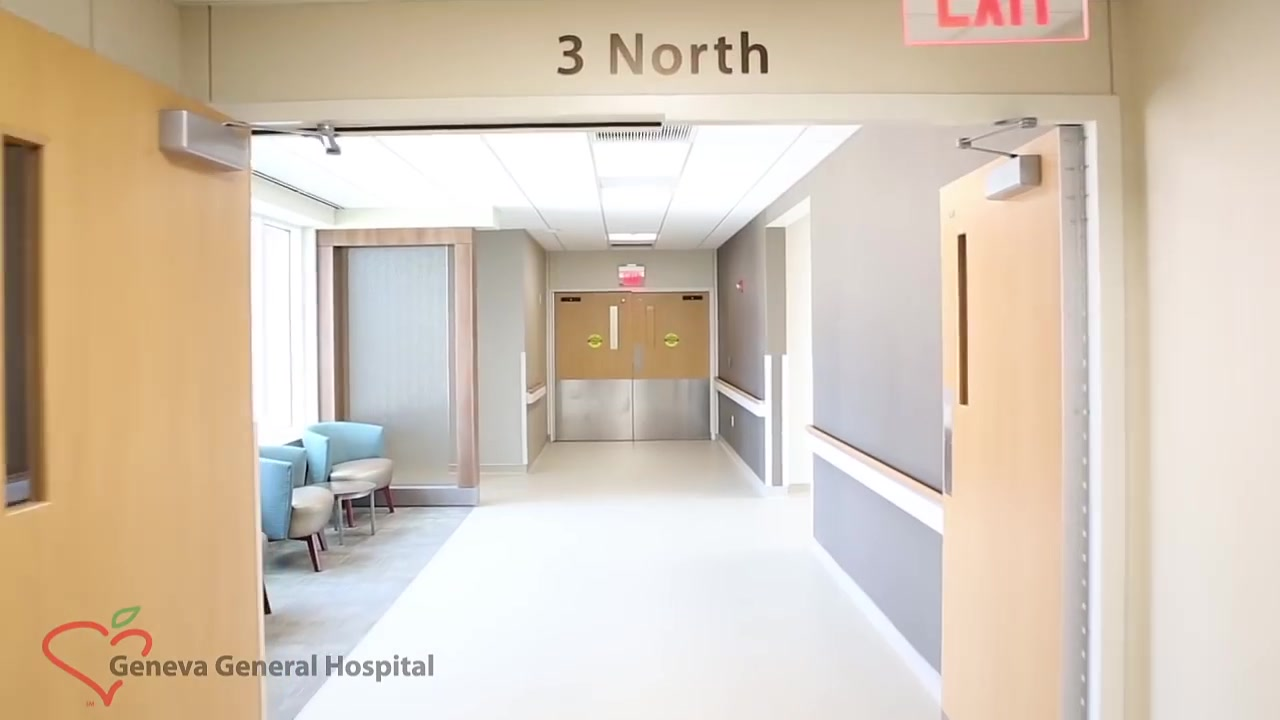hallway_assist_bar: (808, 424, 977, 533), (716, 378, 765, 420), (526, 382, 547, 406)
sofa: (307, 421, 395, 536), (255, 445, 334, 572)
table: (306, 480, 381, 548)
